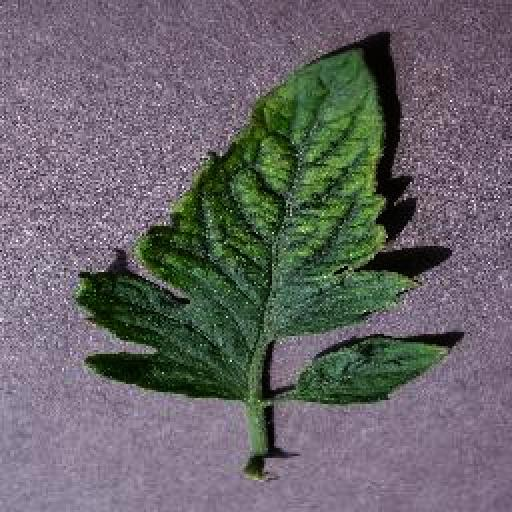disease_tomato: (70, 42, 450, 404)
